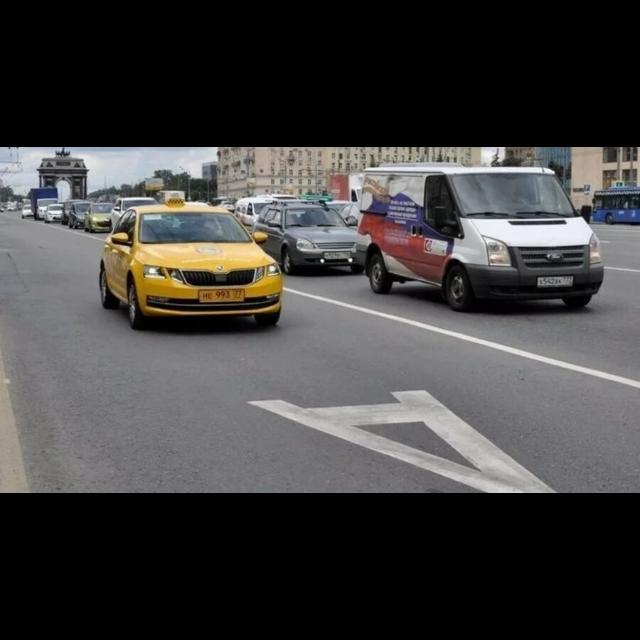road: (0, 212, 639, 491)
